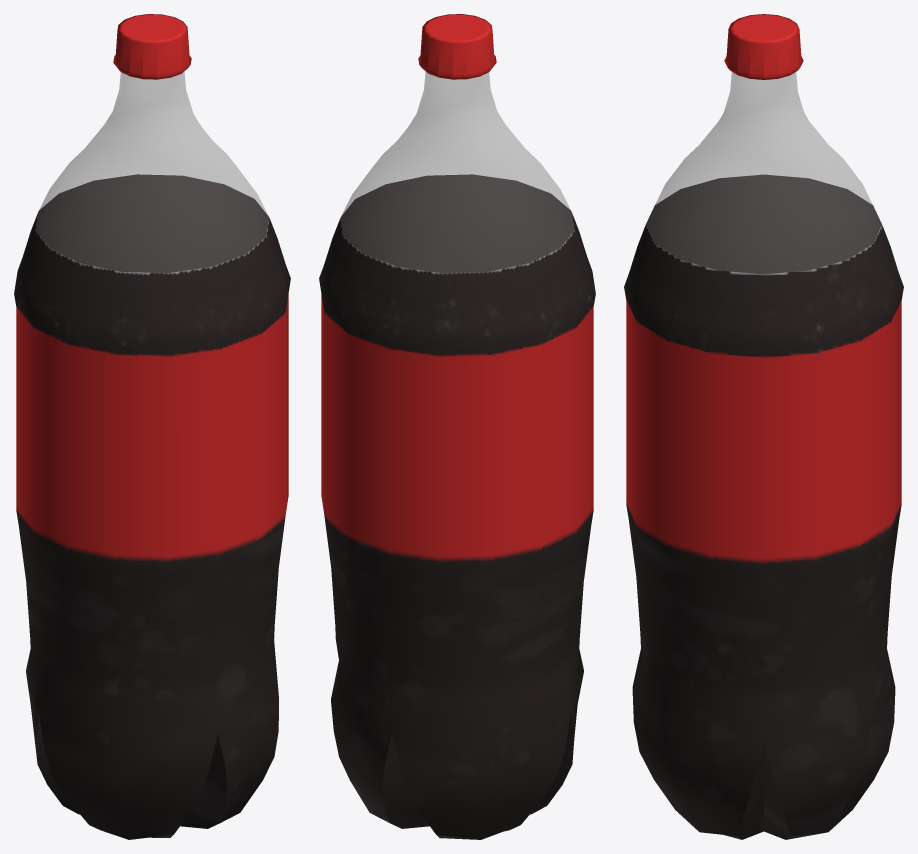
Rendered from Parent_Run_Coke_Bottle.fbx.
The picture shows the model from 3 angles, left to right: view 1: azimuth 30°, elevation 25°; view 2: azimuth 150°, elevation 25°; view 3: azimuth 270°, elevation 25°; orthographic projection.
Parts seen in each view (by area): view 1: Coke_Bottle; view 2: Coke_Bottle; view 3: Coke_Bottle.
Boxes of the visible parts, bbox=[...] form: Coke_Bottle: bbox=[14, 14, 290, 839]; Coke_Bottle: bbox=[319, 14, 595, 839]; Coke_Bottle: bbox=[624, 14, 903, 839].
Size of the model in its own units: 28.23 by 86.92 by 28.23.
